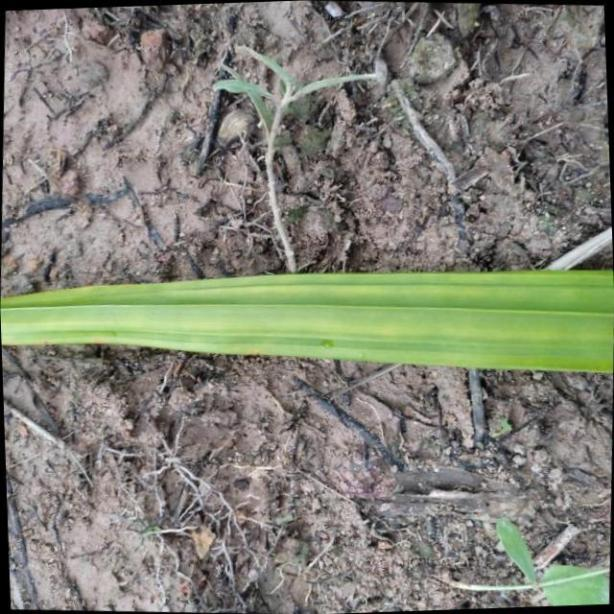nitrogen: (0, 265, 614, 379)
